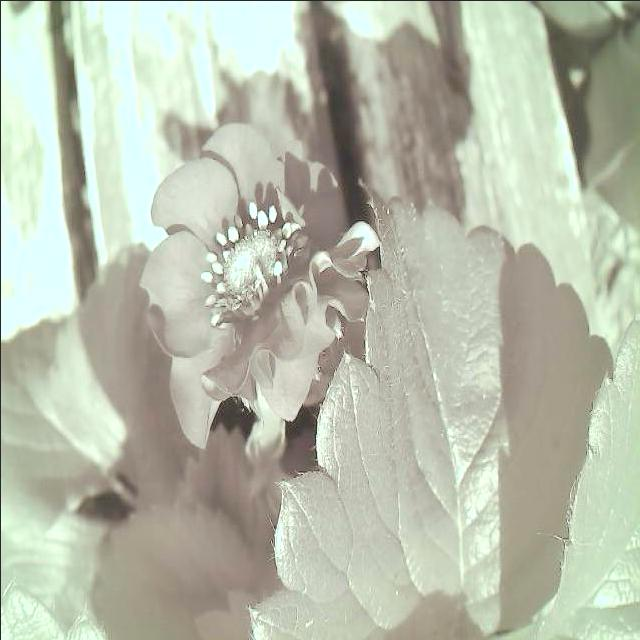flower: (124, 111, 396, 468)
